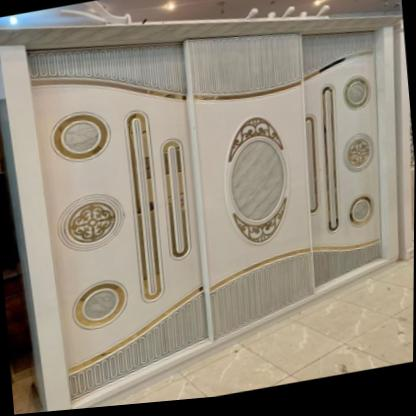Ceramic floor: (109, 261, 414, 408)
Closet: (0, 23, 403, 413)
